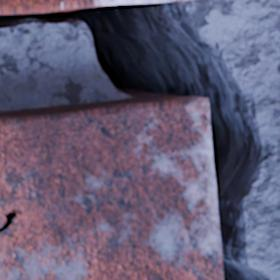brick: (0, 97, 222, 279), (0, 0, 172, 13)
crack: (0, 0, 279, 279)
